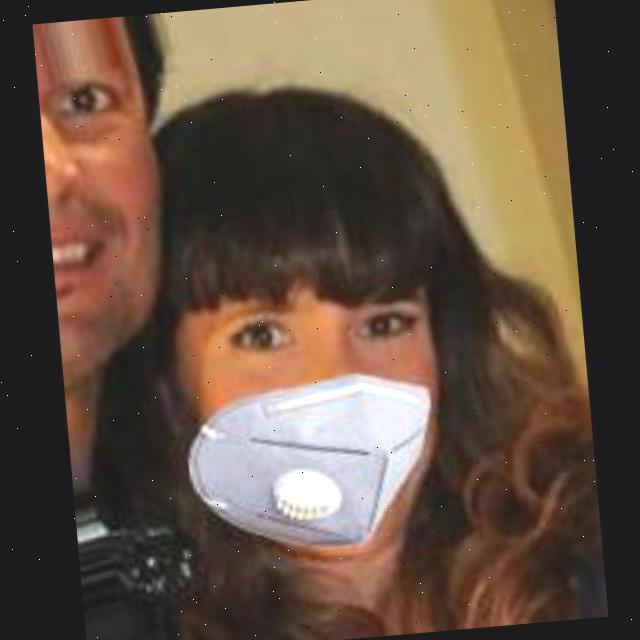suspicion: (156, 115, 487, 558)
